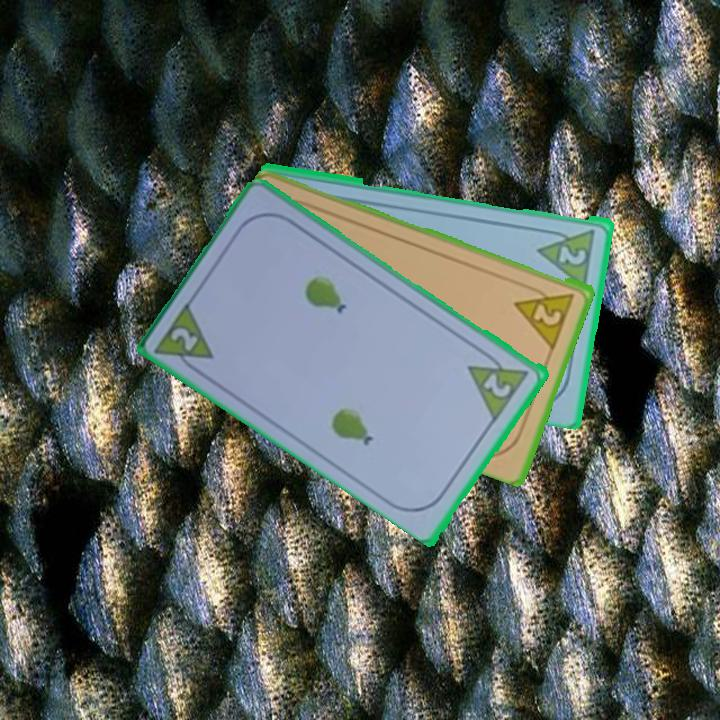2p: (151, 297, 218, 379), (511, 281, 579, 350), (480, 368, 515, 401), (555, 239, 590, 268)
